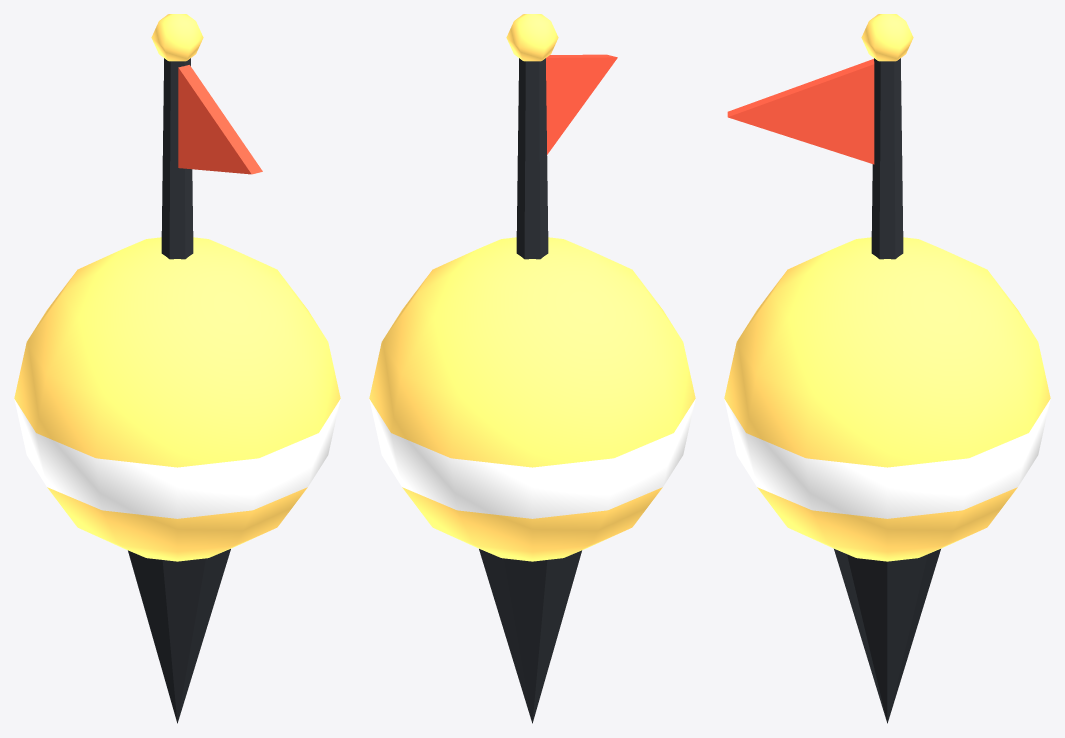
File: sky-buoy.glb
The picture shows the model from 3 angles, left to right: view 1: azimuth 30°, elevation 25°; view 2: azimuth 150°, elevation 25°; view 3: azimuth 270°, elevation 25°; orthographic projection.
Visible parts, largest first — view 1: sky-buoy; view 2: sky-buoy; view 3: sky-buoy.
Part boxes in pixels (x1=…): sky-buoy: x1=14, y1=14, x2=340, y2=723; sky-buoy: x1=369, y1=14, x2=695, y2=723; sky-buoy: x1=724, y1=14, x2=1050, y2=723.
Size of the model in its own units: 1 by 2.4 by 1.
